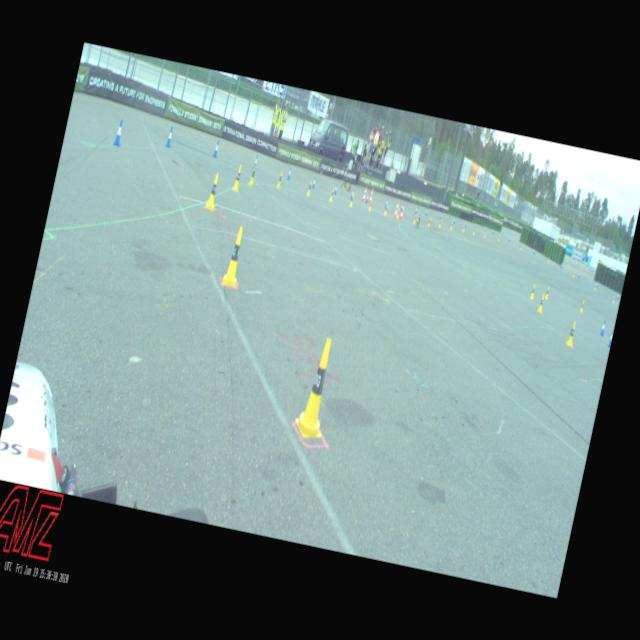blue_cone: (112, 118, 124, 146), (165, 126, 174, 148), (212, 140, 220, 158), (599, 320, 606, 336), (607, 328, 613, 346), (252, 154, 258, 169), (286, 167, 292, 180), (349, 188, 354, 199), (333, 184, 338, 194), (312, 176, 316, 188), (365, 192, 369, 202), (384, 198, 388, 207), (414, 206, 418, 214), (400, 202, 403, 211), (425, 208, 428, 215), (577, 271, 580, 278), (616, 294, 619, 300), (532, 248, 535, 254), (483, 225, 486, 231), (440, 212, 442, 220), (453, 216, 455, 223), (464, 220, 466, 227), (560, 262, 562, 268), (508, 236, 510, 242), (492, 228, 494, 234), (596, 282, 598, 288), (474, 222, 476, 228)
large_orange_cone: (361, 185, 367, 202), (398, 202, 404, 219), (393, 202, 399, 218), (368, 186, 373, 204)
yellow_cone: (292, 335, 341, 440), (221, 225, 248, 287), (204, 172, 222, 210), (564, 321, 576, 346), (232, 164, 243, 190), (248, 164, 256, 186), (536, 294, 544, 313), (276, 170, 284, 188), (529, 283, 536, 299), (306, 180, 312, 197), (328, 186, 334, 202), (544, 286, 550, 298), (579, 300, 584, 312), (349, 194, 354, 206), (383, 204, 388, 214), (412, 214, 417, 223), (368, 200, 372, 210), (438, 219, 442, 228), (427, 218, 431, 226), (396, 208, 399, 218), (518, 243, 522, 250), (462, 224, 465, 232), (546, 256, 550, 262), (472, 228, 475, 235), (450, 220, 452, 229), (612, 296, 615, 302), (593, 284, 596, 290), (483, 230, 485, 237), (572, 270, 574, 276), (497, 234, 499, 240)
